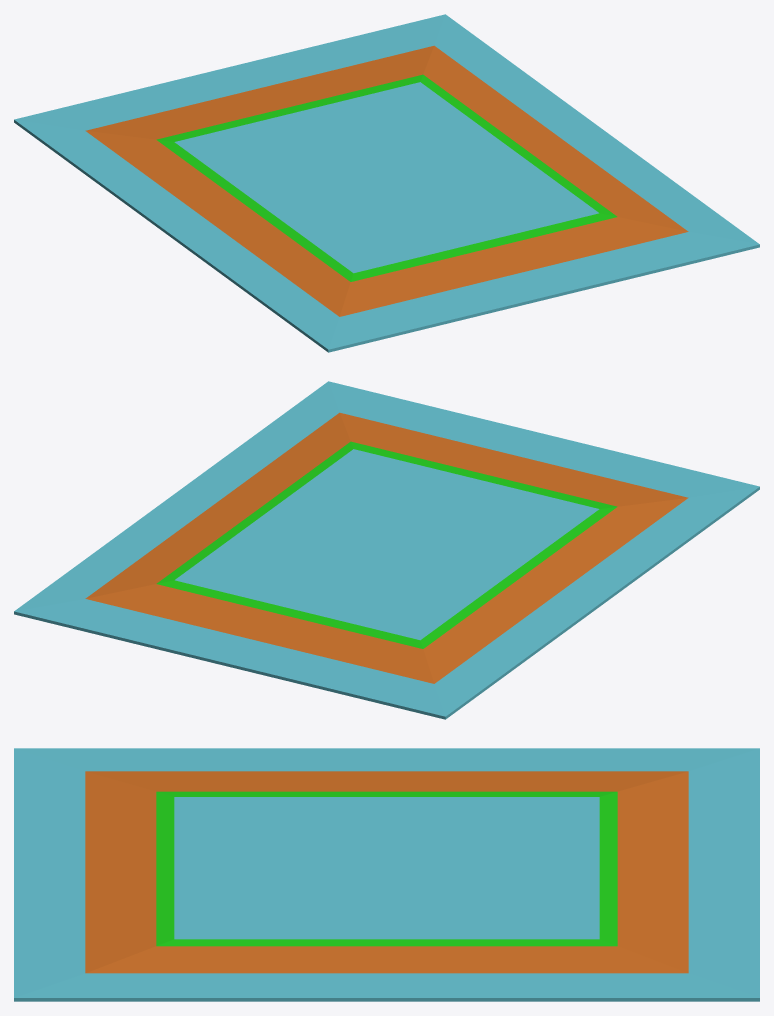
Rendered from Carpet_Material.fbx.
The picture shows the model from 3 angles, top to bottom: view 1: azimuth 30°, elevation 25°; view 2: azimuth 150°, elevation 25°; view 3: azimuth 270°, elevation 25°; orthographic projection. The views are drawn at different scales.
Visible parts, largest first — view 1: Carpet; view 2: Carpet; view 3: Carpet.
Part boxes in pixels (box(x1,y1,x2,y2)): Carpet: box(14, 14, 759, 352); Carpet: box(14, 381, 759, 719); Carpet: box(14, 748, 759, 1001).
Size of the model in its own units: 2.34 by 0.0377 by 2.95.
